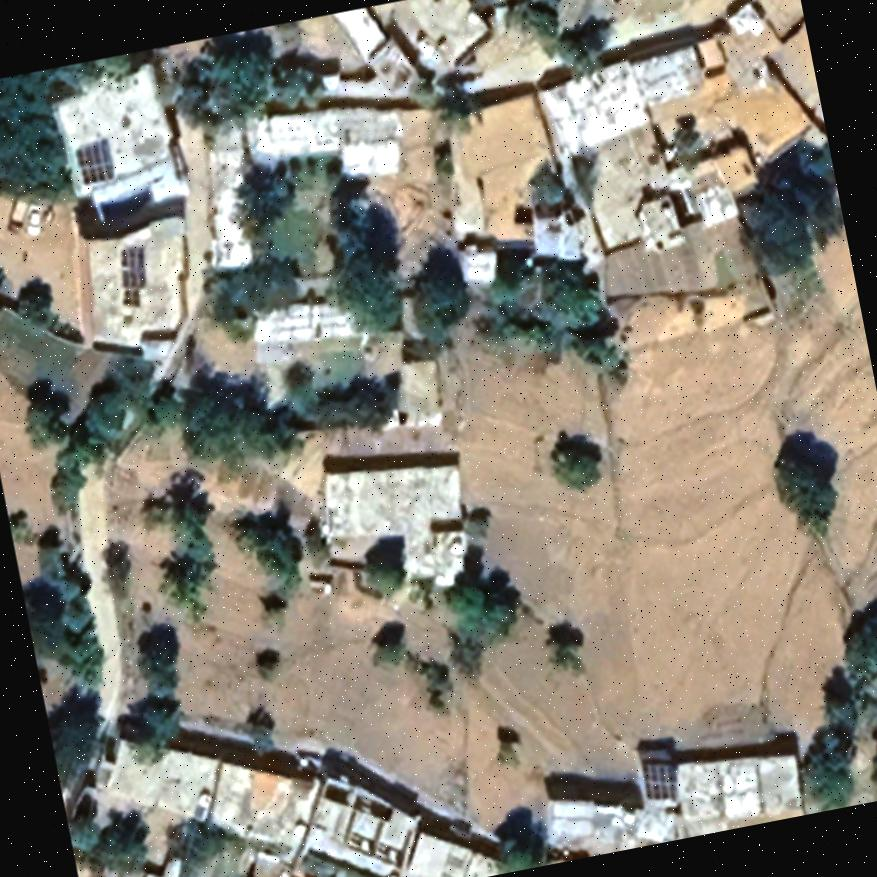Solarpanel: (106, 238, 159, 315), (634, 748, 688, 808), (69, 134, 121, 191)
